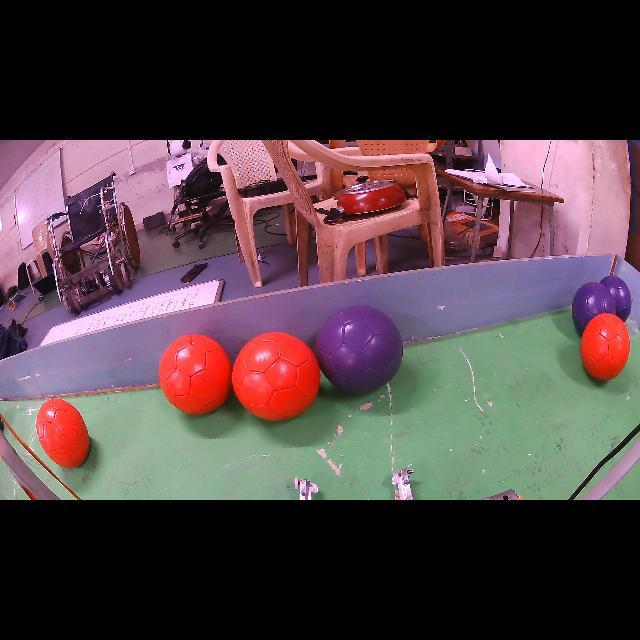P: (315, 305, 402, 392), (571, 281, 616, 335), (600, 275, 631, 321)
R: (232, 332, 320, 420), (159, 335, 231, 414), (36, 399, 90, 468), (580, 312, 630, 380)
